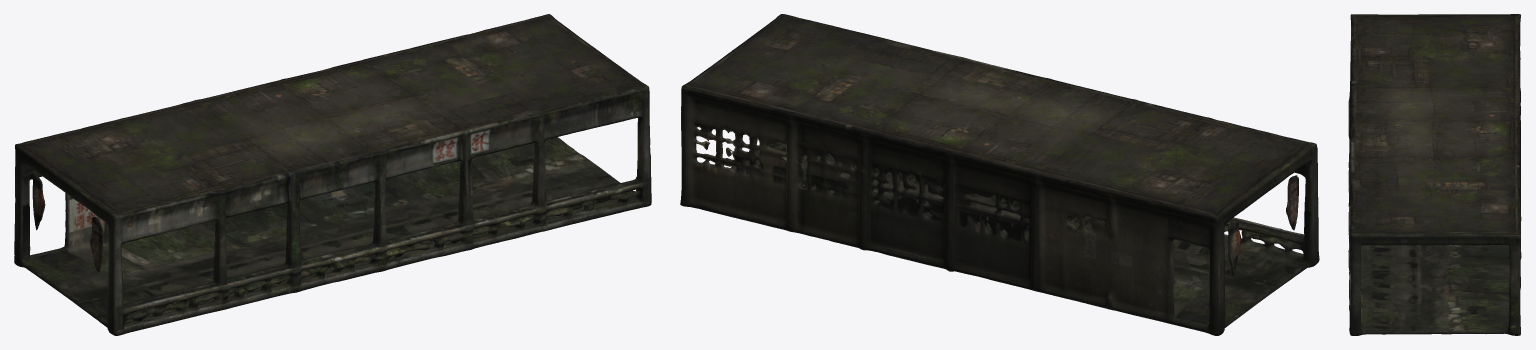
The model's file is Japanese_Dystopian_Sc_0424081858_texture.fbx.
3 renders of one model, left to right at view 1: azimuth 30°, elevation 25°; view 2: azimuth 150°, elevation 25°; view 3: azimuth 270°, elevation 25°, orthographic. The views are drawn at different scales.
Visible parts, largest first — view 1: Mesh_0; view 2: Mesh_0; view 3: Mesh_0.
Boxes of the visible parts, x1,y1,x2,y2 form: Mesh_0: (14,14,651,335); Mesh_0: (680,14,1319,335); Mesh_0: (1348,14,1521,335).
Size of the model in its own units: 200 by 42.57 by 65.68.
Materials: 1 (1 with a texture image).
